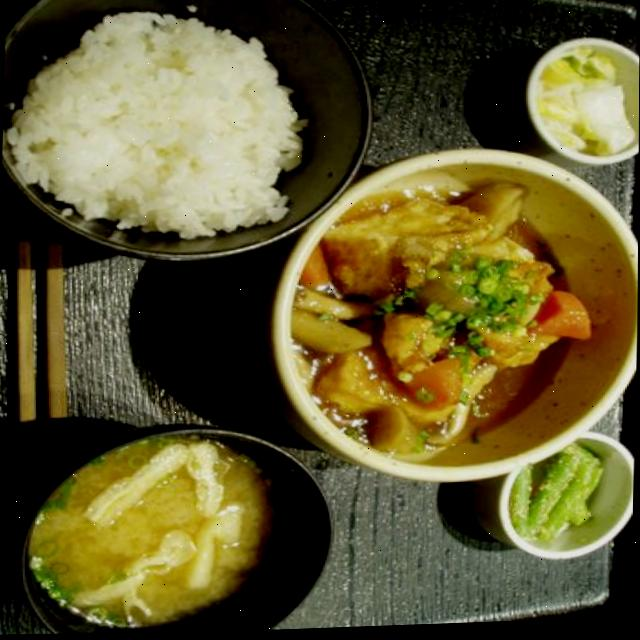米饭主食: (0, 0, 377, 262)
